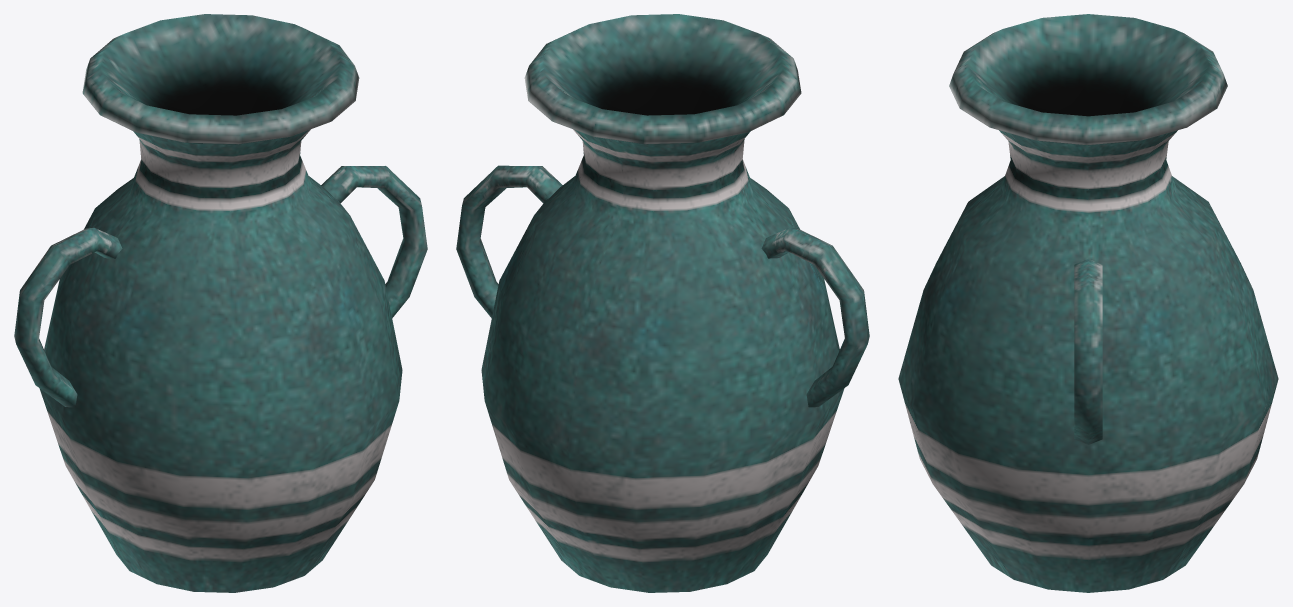
File: EP1_waterjug.fbx
3 renders of one model, left to right at view 1: azimuth 30°, elevation 25°; view 2: azimuth 150°, elevation 25°; view 3: azimuth 270°, elevation 25°, orthographic.
Parts seen in each view (by area): view 1: water_jug_geo; view 2: water_jug_geo; view 3: water_jug_geo.
Part boxes in pixels (x1=…): water_jug_geo: x1=14, y1=14, x2=427, y2=592; water_jug_geo: x1=456, y1=14, x2=869, y2=592; water_jug_geo: x1=898, y1=14, x2=1278, y2=592.
Bounding box in the file's own units: 0.8821 × 0.9959 × 0.71.
